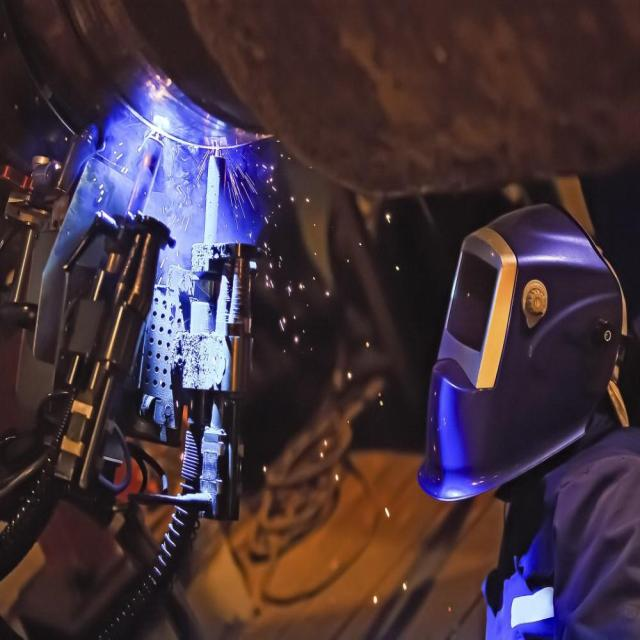welding: (154, 115, 170, 133)
